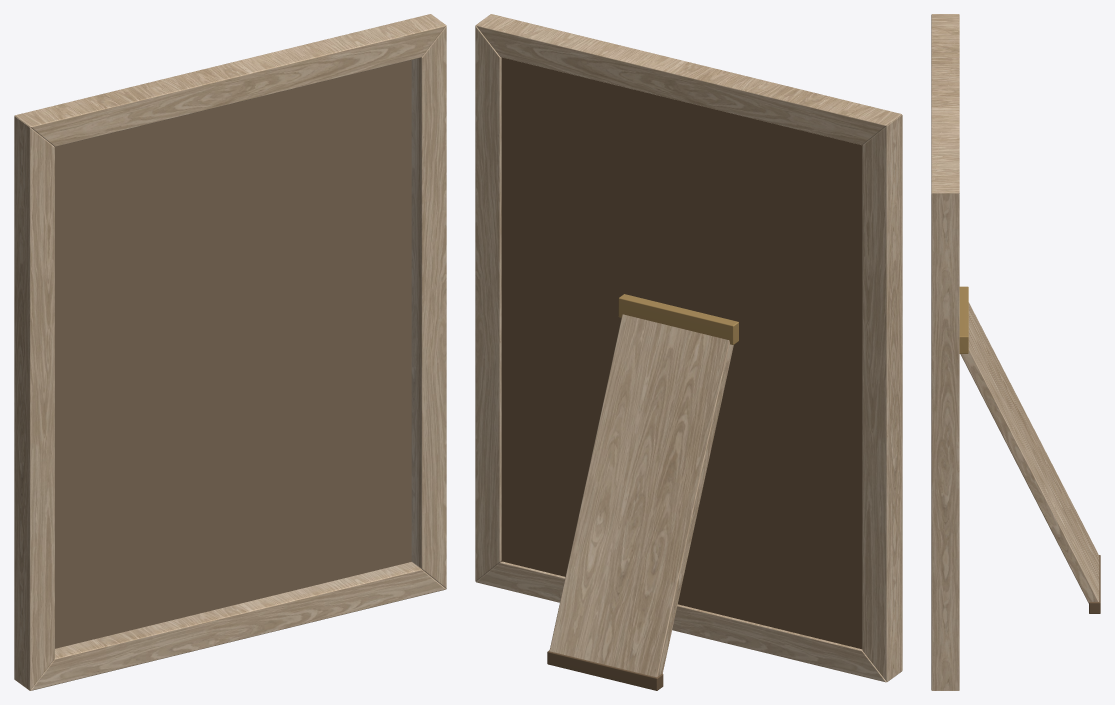
File: wooden-photo-frame.glb
3 views of the same model, side by side, from view 1: azimuth 30°, elevation 25°; view 2: azimuth 150°, elevation 25°; view 3: azimuth 270°, elevation 25° (orthographic). The views are drawn at different scales.
Parts seen in each view (by area): view 1: Backing board, Frame Left, Frame Right, Frame Top, Frame Bottom; view 2: Backing board, Wooden easel support, Frame Left, Frame Top, Frame Right, Frame Bottom, Easel hinge, Easel foot; view 3: Frame Right, Wooden easel support, Frame Top, Easel hinge.
Part boxes in pixels (x1,y1,x2,y2): Backing board: (54, 60, 411, 648); Frame Left: (14, 116, 54, 690); Frame Right: (411, 25, 446, 588); Frame Top: (14, 14, 446, 146); Frame Bottom: (30, 562, 446, 690); Backing board: (501, 57, 862, 649); Wooden easel support: (549, 314, 733, 677); Frame Left: (862, 115, 902, 681); Frame Top: (476, 14, 901, 145); Frame Right: (475, 25, 501, 581); Frame Bottom: (476, 561, 886, 682); Easel hinge: (618, 294, 738, 344); Easel foot: (547, 650, 663, 690); Frame Right: (931, 193, 959, 690); Wooden easel support: (960, 302, 1099, 603); Frame Top: (931, 14, 959, 193); Easel hinge: (959, 286, 968, 353).
Bounding box in the file's own units: 0.3288 × 0.425 × 0.131.
Materials: 4 (1 with a texture image).
